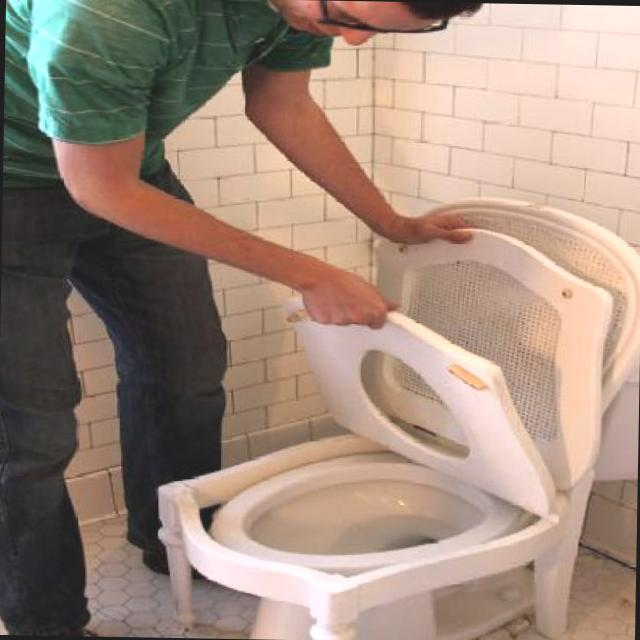Person: (0, 0, 483, 629)
